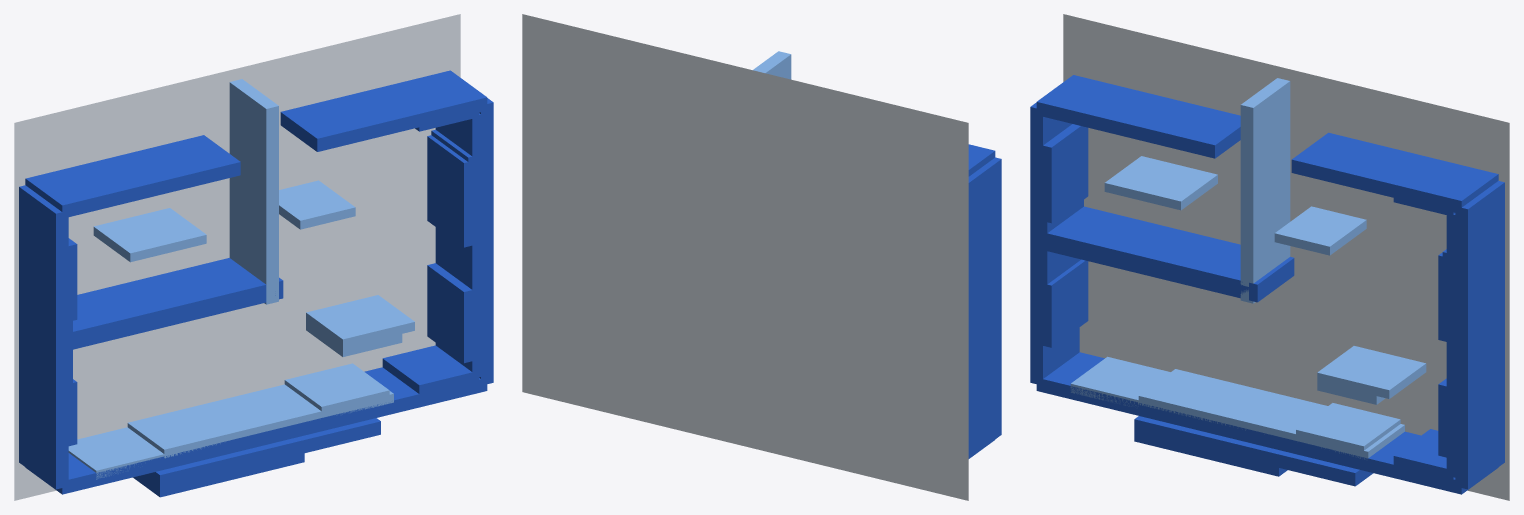
File: 99020a7e-dbff-482f-a1bd-9f413c8f3ef7.obj
The picture shows the model from 3 angles, left to right: view 1: azimuth 30°, elevation 25°; view 2: azimuth 150°, elevation 25°; view 3: azimuth 330°, elevation 25°; orthographic projection.
Bounding box in the file's own units: 21 × 17 × 3.05.
